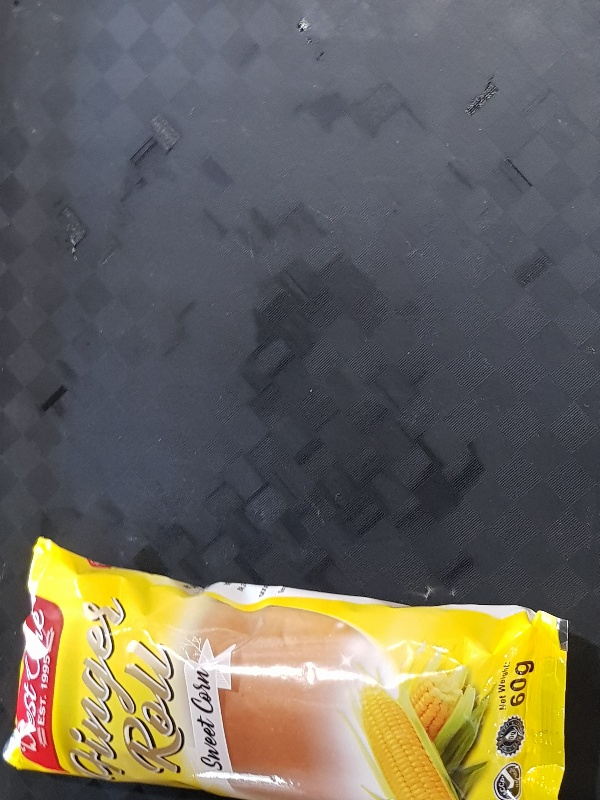Star Tidbits Mixer: (2, 533, 573, 800)
